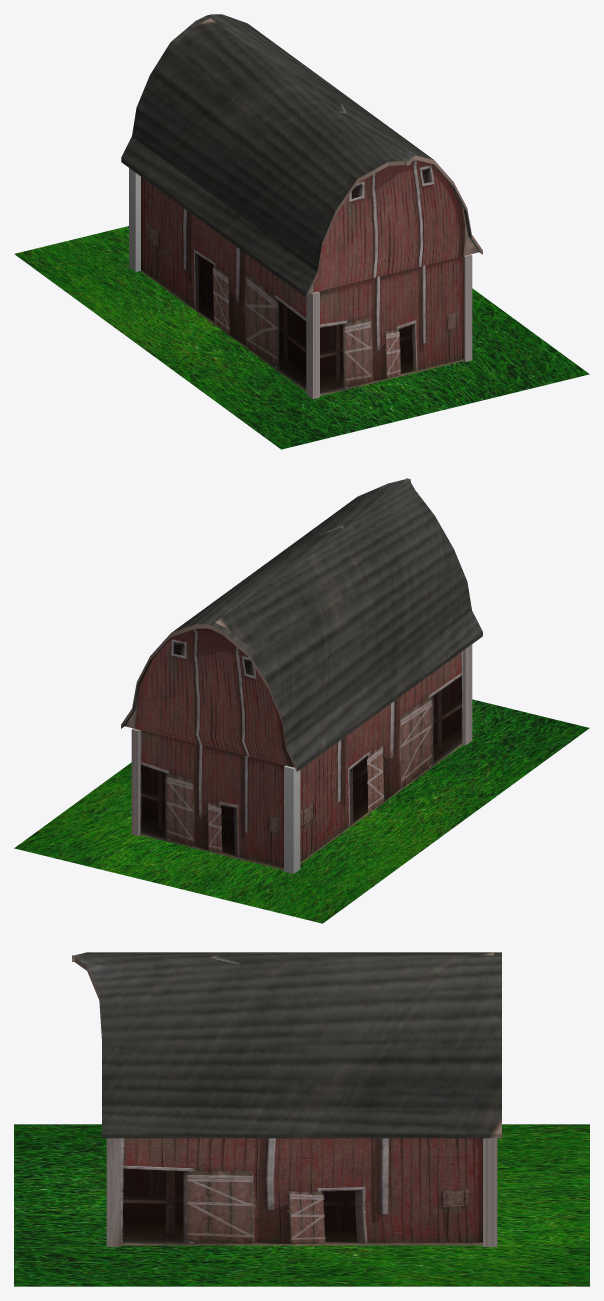
The model's file is Farm.FBX.
3 views of the same model, one above another, from view 1: azimuth 30°, elevation 25°; view 2: azimuth 150°, elevation 25°; view 3: azimuth 270°, elevation 25° (orthographic). The views are drawn at different scales.
Parts seen in each view (by area): view 1: Farm, Grass; view 2: Farm, Grass; view 3: Farm, Grass.
Boxes of the visible parts, x1=… form: Farm: x1=121, y1=14, x2=482, y2=399; Grass: x1=14, y1=226, x2=589, y2=449; Farm: x1=121, y1=478, x2=482, y2=873; Grass: x1=14, y1=699, x2=589, y2=923; Farm: x1=72, y1=952, x2=501, y2=1246; Grass: x1=14, y1=1124, x2=589, y2=1286.
Size of the model in its own units: 1200 by 859 by 1800.
2 materials, 2 textured.
